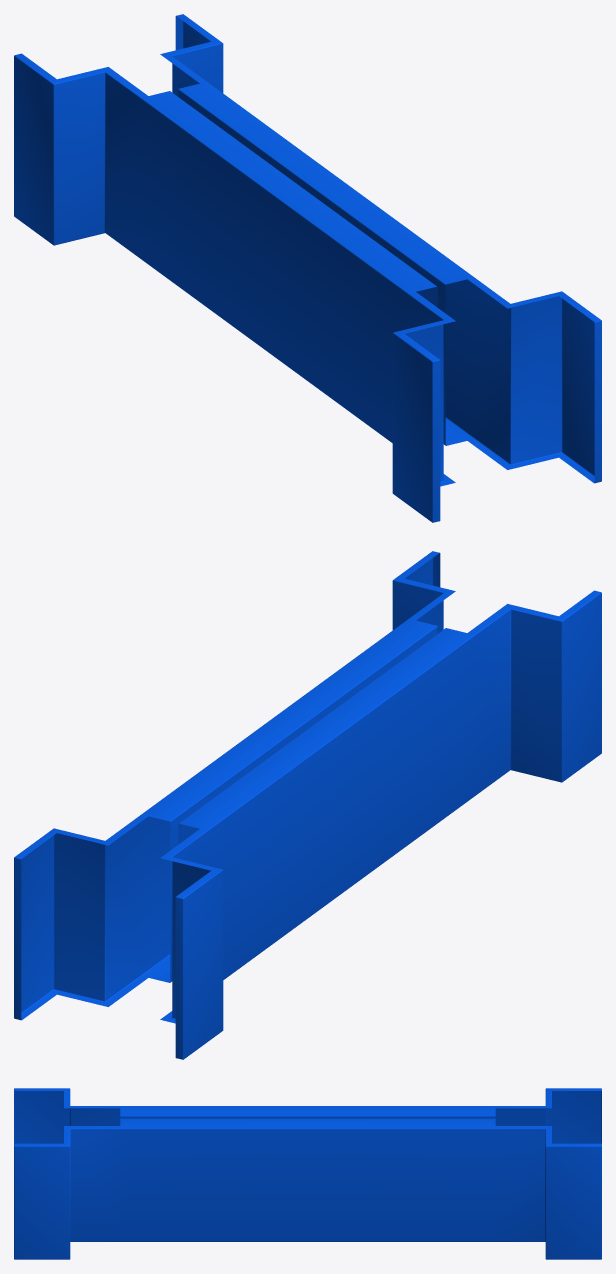
File: Vagon_Plataforma_Letrerofbx.fbx
The picture shows the model from 3 angles, top to bottom: view 1: azimuth 30°, elevation 25°; view 2: azimuth 150°, elevation 25°; view 3: azimuth 270°, elevation 25°; orthographic projection. The views are drawn at different scales.
Visible parts, largest first — view 1: Elevator_Cargo; view 2: Elevator_Cargo; view 3: Elevator_Cargo.
Part boxes in pixels (x1,y1,x2,y2): Elevator_Cargo: [14, 14, 601, 522]; Elevator_Cargo: [14, 551, 601, 1059]; Elevator_Cargo: [14, 1088, 601, 1259].
Size of the model in its own units: 220 by 200 by 940.
